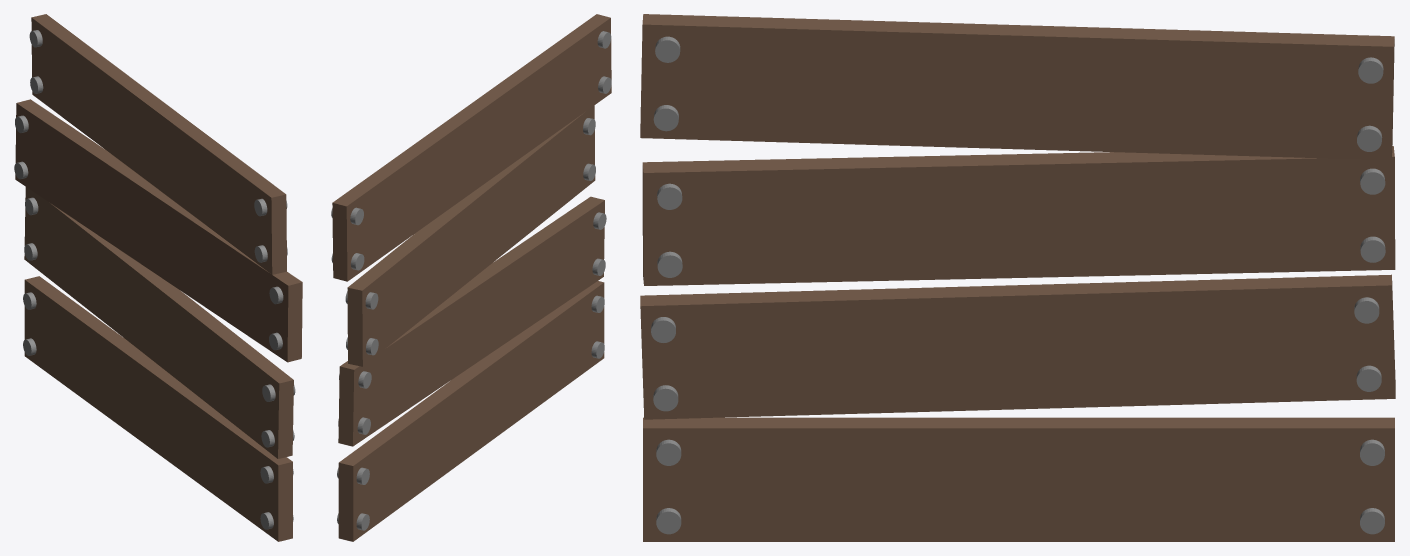
File: LooseBoards.fbx
The picture shows the model from 3 angles, left to right: view 1: azimuth 30°, elevation 25°; view 2: azimuth 150°, elevation 25°; view 3: azimuth 270°, elevation 25°; orthographic projection. The views are drawn at different scales.
Parts seen in each view (by area): view 1: Cube.003, Cube.034, Cube.019, Cube.006, Cube.033, Cube.035, Cube.017, Cube.040, Cube.005, Cube.021, Cube.066, Cube.069 (+40 smaller); view 2: Cube.003, Cube.006, Cube.019, Cube.034, Cube.035, Cube.033, Cube.021, Cube.017, Cube.066, Cube.005, Cube.069, Cube.040 (+43 smaller); view 3: Cube.003, Cube.034, Cube.033, Cube.035, Cube.006, Cube.019, Cube.021, Cube.017, Cube.005, Cube.040, Cube.064, Cube.066 (+44 smaller).
Part boxes in pixels (x1=…): Cube.003: x1=140, y1=369, x2=243, y2=460; Cube.034: x1=140, y1=191, x2=244, y2=281; Cube.019: x1=15, y1=99, x2=100, y2=188; Cube.006: x1=23, y1=276, x2=105, y2=366; Cube.033: x1=66, y1=267, x2=162, y2=359; Cube.035: x1=141, y1=143, x2=232, y2=244; Cube.017: x1=212, y1=370, x2=294, y2=458; Cube.040: x1=75, y1=147, x2=139, y2=222; Cube.005: x1=80, y1=324, x2=139, y2=400; Cube.021: x1=30, y1=57, x2=94, y2=141; Cube.066: x1=151, y1=120, x2=219, y2=198; Cube.069: x1=205, y1=144, x2=269, y2=220; Cube.003: x1=464, y1=310, x2=562, y2=415; Cube.006: x1=337, y1=414, x2=418, y2=502; Cube.019: x1=345, y1=239, x2=422, y2=326; Cube.034: x1=468, y1=134, x2=555, y2=238; Cube.035: x1=467, y1=99, x2=567, y2=187; Cube.033: x1=394, y1=320, x2=489, y2=418; Cube.021: x1=331, y1=195, x2=416, y2=281; Cube.017: x1=538, y1=239, x2=605, y2=320; Cube.066: x1=479, y1=66, x2=553, y2=146; Cube.005: x1=404, y1=390, x2=467, y2=471; Cube.069: x1=524, y1=27, x2=592, y2=98; Cube.040: x1=408, y1=215, x2=467, y2=295; Cube.003: x1=767, y1=417, x2=1052, y2=489; Cube.034: x1=766, y1=154, x2=1053, y2=225; Cube.033: x1=985, y1=348, x2=1271, y2=409; Cube.035: x1=764, y1=88, x2=1050, y2=149; Cube.006: x1=1198, y1=417, x2=1394, y2=501; Cube.019: x1=1198, y1=146, x2=1394, y2=230; Cube.021: x1=1195, y1=86, x2=1392, y2=160; Cube.017: x1=643, y1=345, x2=839, y2=419; Cube.005: x1=1053, y1=417, x2=1230, y2=497; Cube.040: x1=1053, y1=152, x2=1231, y2=228; Cube.064: x1=1017, y1=280, x2=1229, y2=349; Cube.066: x1=805, y1=20, x2=1018, y2=89.
Size of the model in its own units: 58.96 by 451 by 603.
